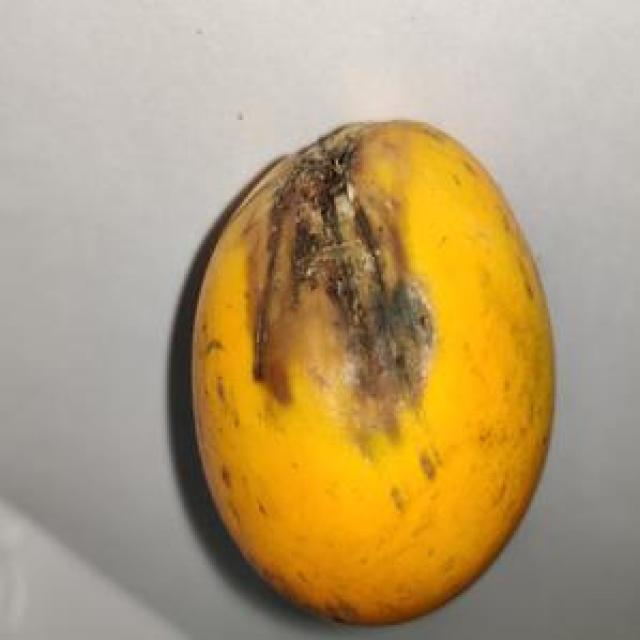damaged: (195, 112, 564, 621)
